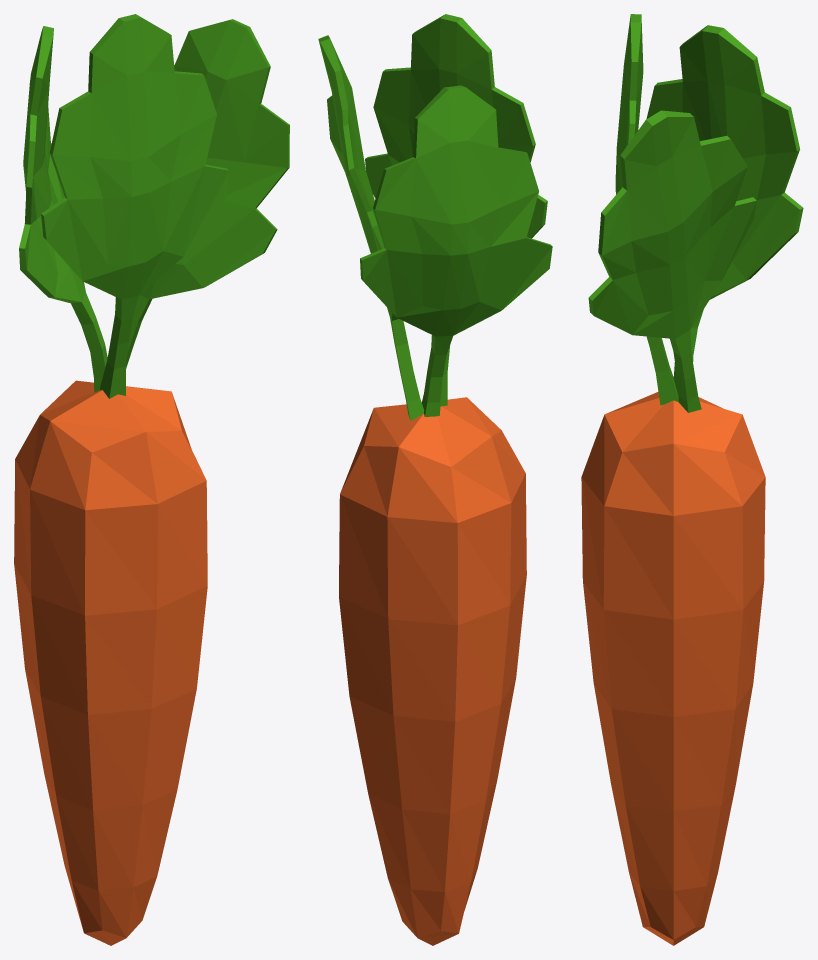
File: carrot.gltf
3 views of the same model, side by side, from view 1: azimuth 30°, elevation 25°; view 2: azimuth 150°, elevation 25°; view 3: azimuth 270°, elevation 25° (orthographic). The views are drawn at different scales.
Parts seen in each view (by area): view 1: node-0; view 2: node-0; view 3: node-0.
Boxes of the visible parts, bbox=[...] form: node-0: bbox=[14, 14, 289, 945]; node-0: bbox=[318, 14, 552, 945]; node-0: bbox=[581, 14, 803, 945].
Bounding box in the file's own units: 1.21 × 4.33 × 0.9404.
